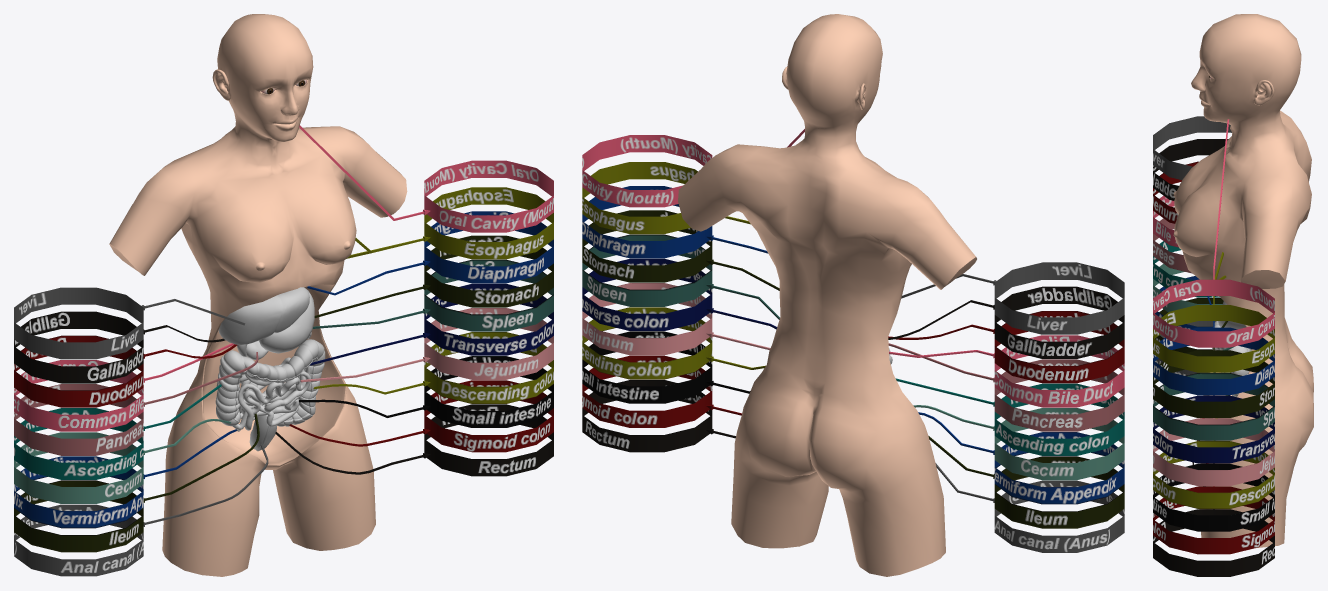
Rendered from Human digestive system Female digestive system.fbx.
3 views of the same model, side by side, from view 1: azimuth 30°, elevation 25°; view 2: azimuth 150°, elevation 25°; view 3: azimuth 270°, elevation 25° (orthographic). The views are drawn at different scales.
Parts seen in each view (by area): view 1: Female_body, Names, digestive_system, Arrows; view 2: Female_body, Names, Arrows; view 3: Names, Female_body, Arrows, digestive_system.
Part boxes in pixels (box(x1,y1,x2,y2)): Female_body: box(109, 14, 407, 576); Names: box(14, 160, 553, 576); digestive_system: box(215, 287, 325, 451); Arrows: box(142, 125, 430, 526); Female_body: box(678, 14, 976, 576); Names: box(582, 135, 1124, 552); Arrows: box(706, 129, 996, 502); Names: box(1153, 116, 1274, 576); Female_body: box(1173, 14, 1313, 548); Arrows: box(1192, 119, 1234, 509); digestive_system: box(1211, 296, 1251, 397).
Size of the model in its own units: 340 by 329 by 96.33.
